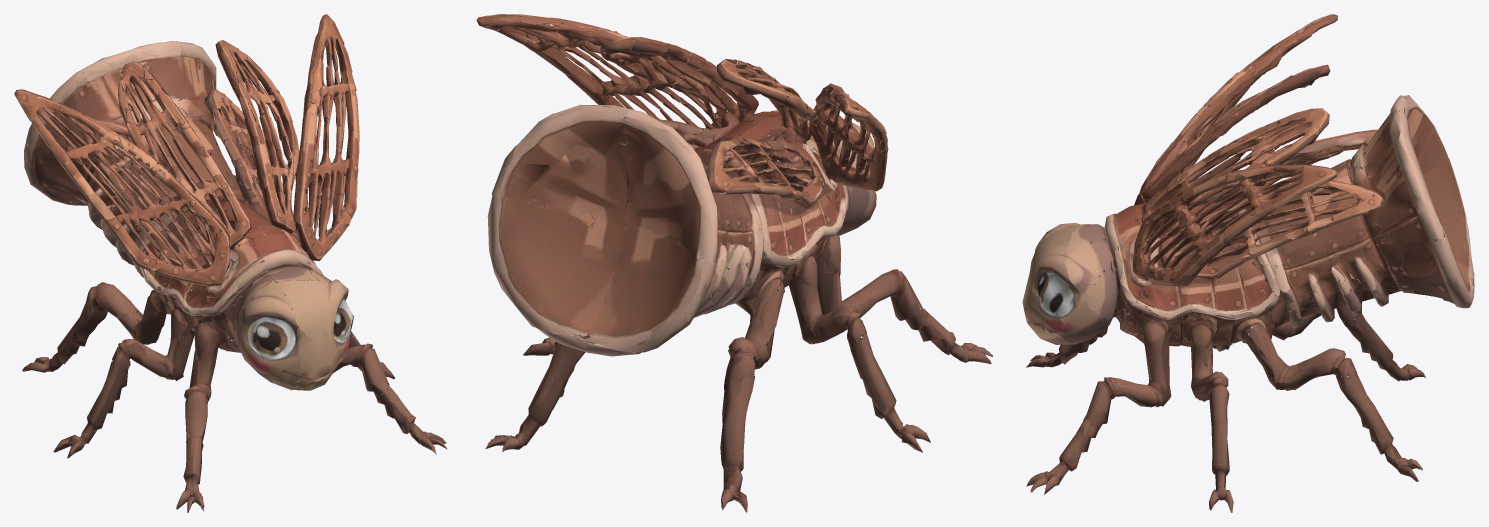
3 views of the same model, side by side, from view 1: azimuth 30°, elevation 25°; view 2: azimuth 150°, elevation 25°; view 3: azimuth 270°, elevation 25° (orthographic). The views are drawn at different scales.
Parts seen in each view (by area): view 1: Mesh_0; view 2: Mesh_0; view 3: Mesh_0.
Boxes of the visible parts, left/top/right/bottom form: Mesh_0: left=14, top=14, right=447, bottom=512; Mesh_0: left=476, top=14, right=992, bottom=512; Mesh_0: left=1022, top=14, right=1474, bottom=512.
Bounding box in the file's own units: 1.7 × 1.58 × 1.9.
1 material, 1 textured.
